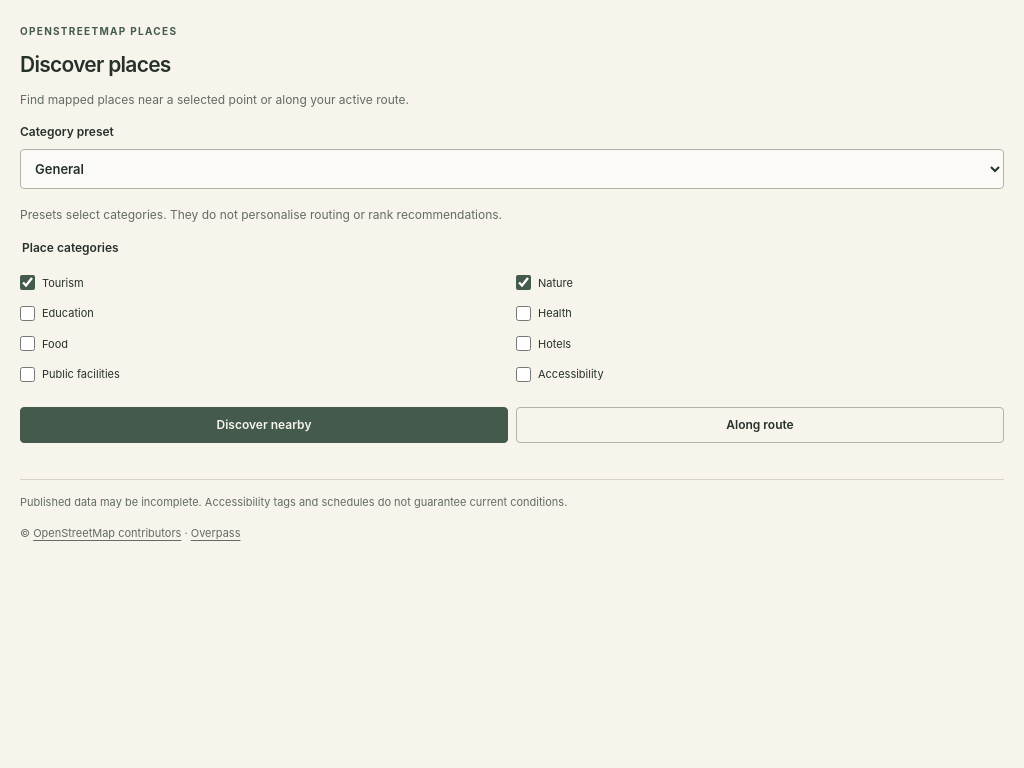
Test: keeps real partial results and exposes the provider failure warning
Click the button "Along route": (760,425) left=516, top=407, right=1004, bottom=443
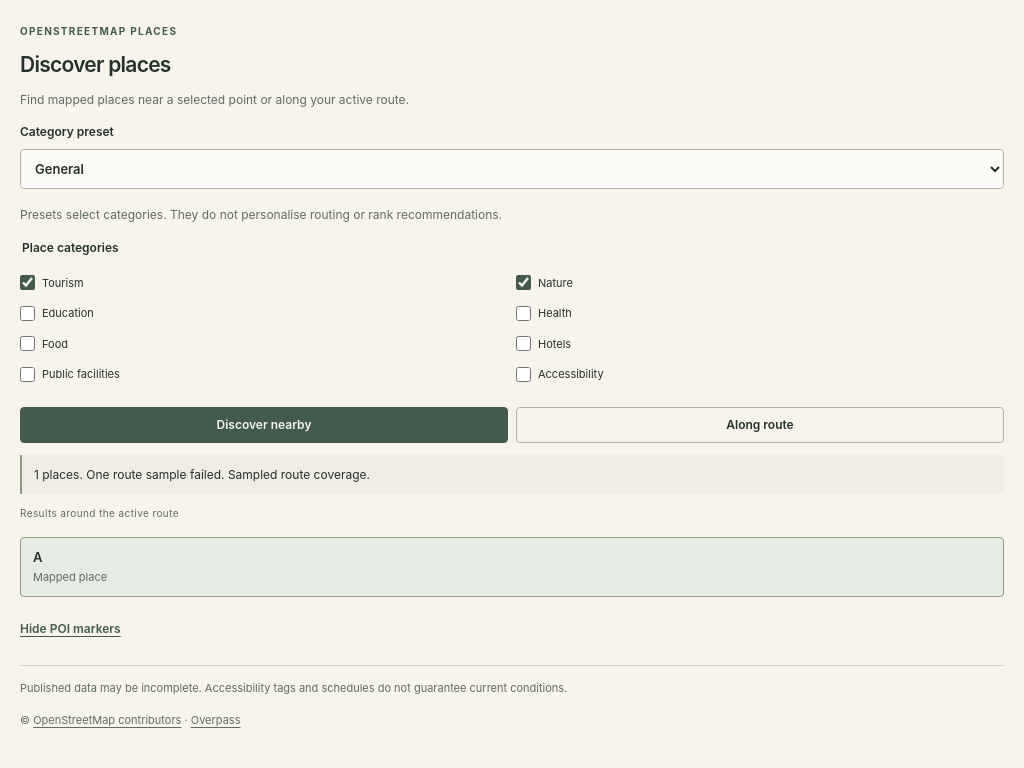
Now the text "1 places. One route sample failed. Sampled route coverage." is shown, box left=20, top=455, right=1004, bottom=494
Now the button "A Mapped place" is shown, box left=20, top=537, right=1004, bottom=597
